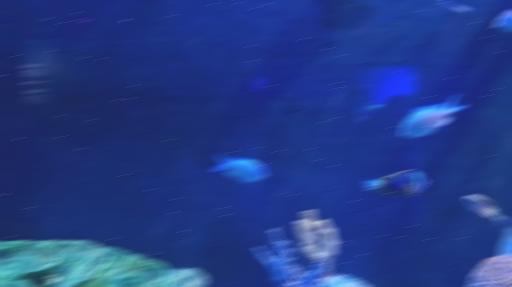Fish: (399, 95, 466, 137), (363, 170, 426, 195), (213, 154, 266, 181), (464, 194, 505, 222), (441, 3, 470, 12), (494, 17, 511, 27)
